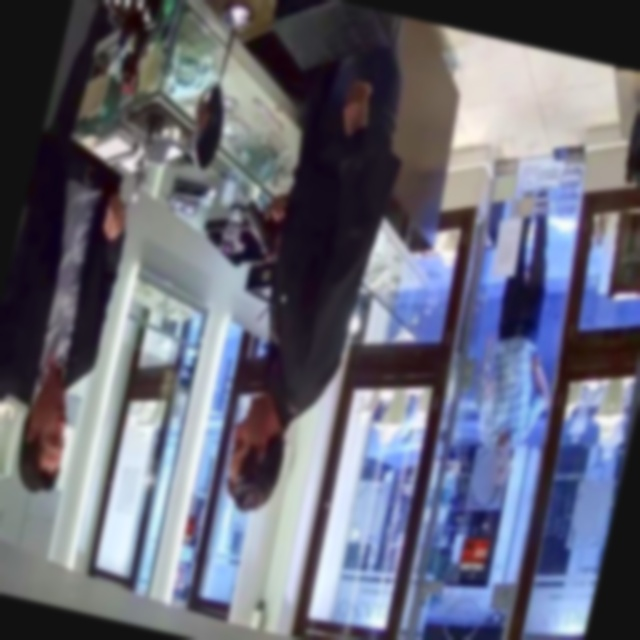gun: (225, 171, 296, 284)
